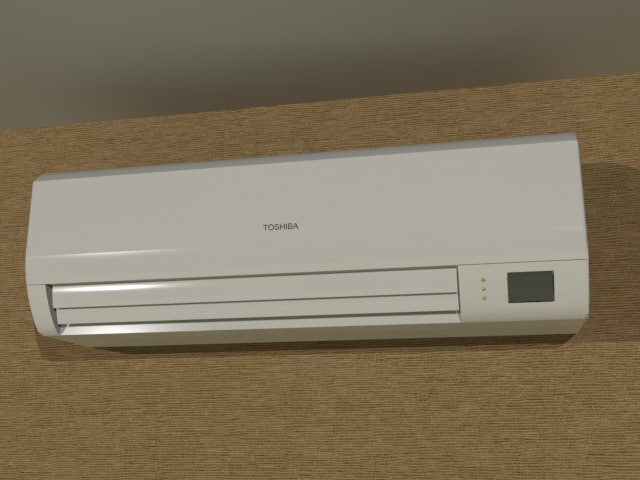ac: (19, 130, 592, 351)
